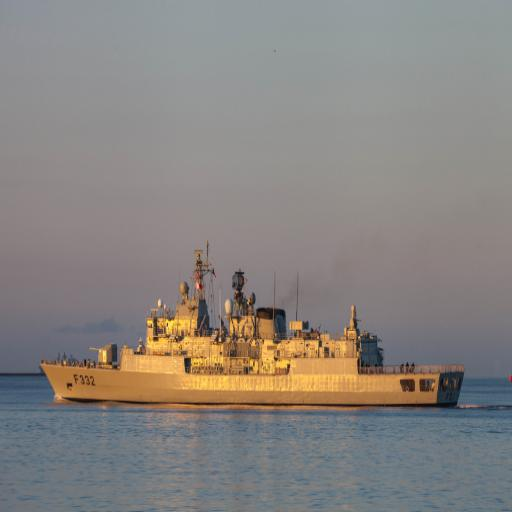Fragata: (38, 246, 468, 410)
